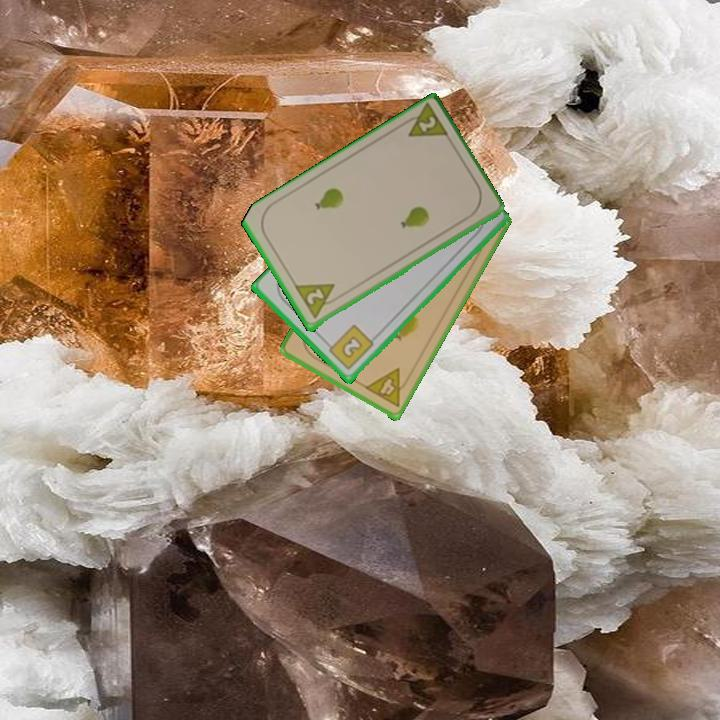2b: (323, 322, 377, 373)
2p: (397, 101, 452, 141), (292, 280, 344, 322)
4p: (361, 365, 414, 410)
